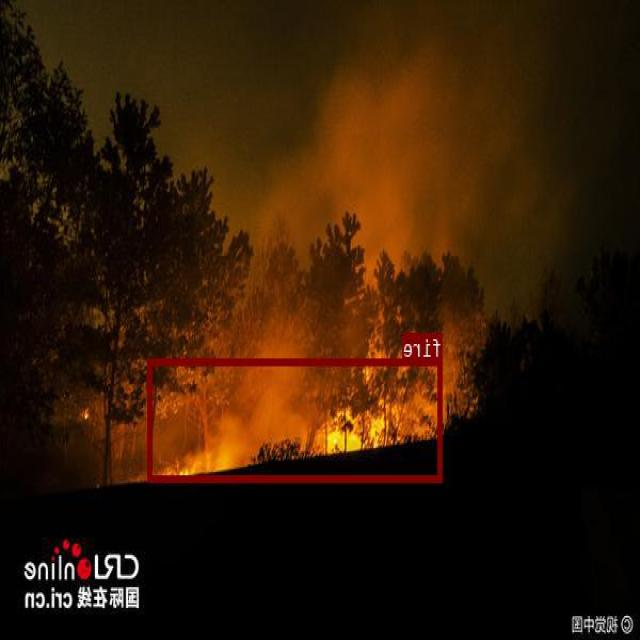fire: (149, 358, 443, 482)
